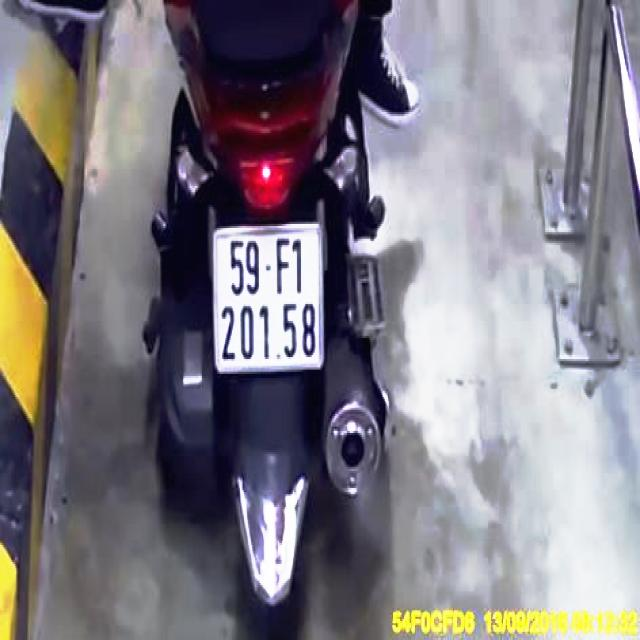license_plate: (215, 228, 324, 369)
